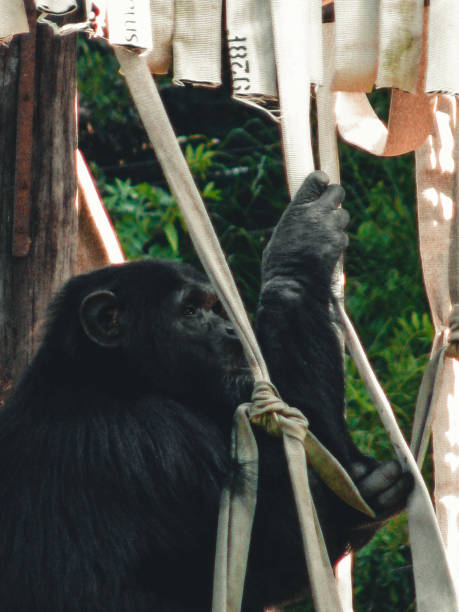chimpanzee: (45, 241, 284, 441)
